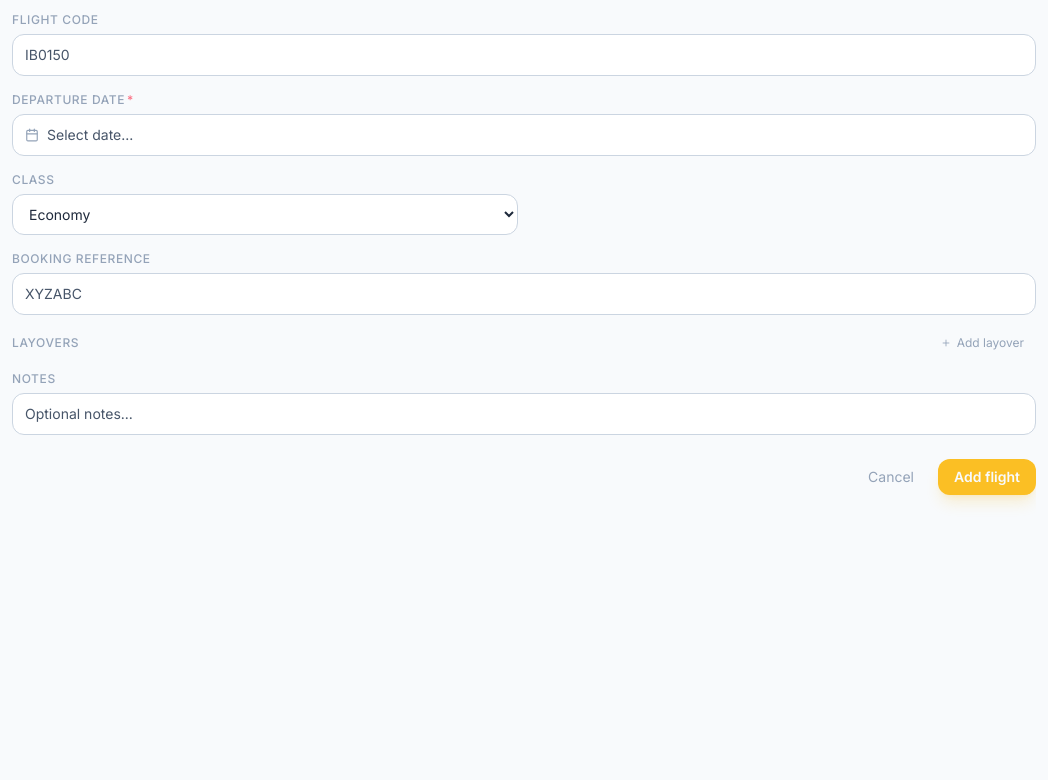
Scenario: FlightForm › layovers › removes a layover
Click the button "Add layover": click(982, 343) [929,331,1036,355]
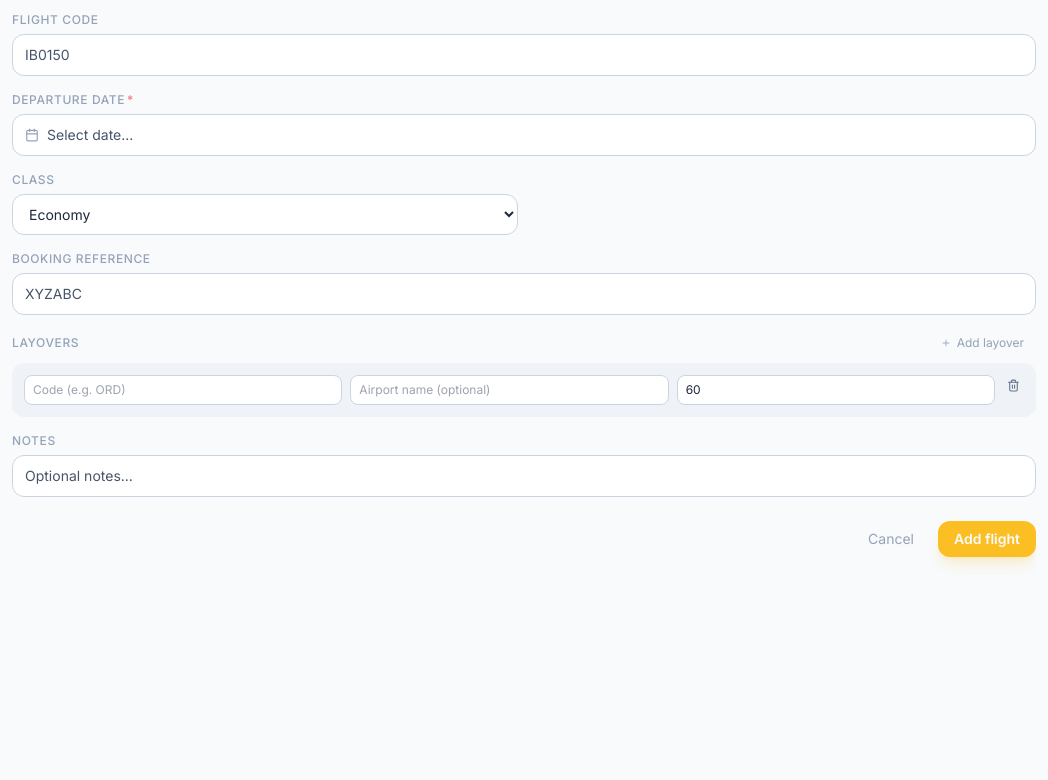
Click the button "Add layover": click(982, 343) [929,331,1036,355]
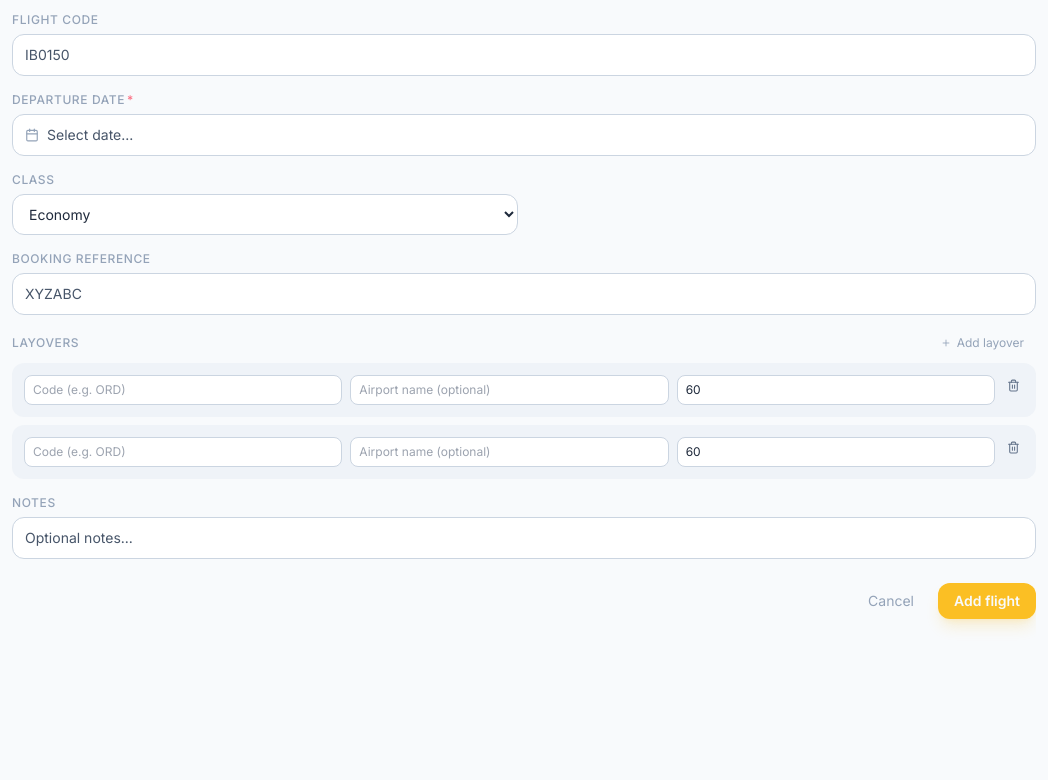
Click the 3rd button: click(1014, 386) [1003,375,1024,396]
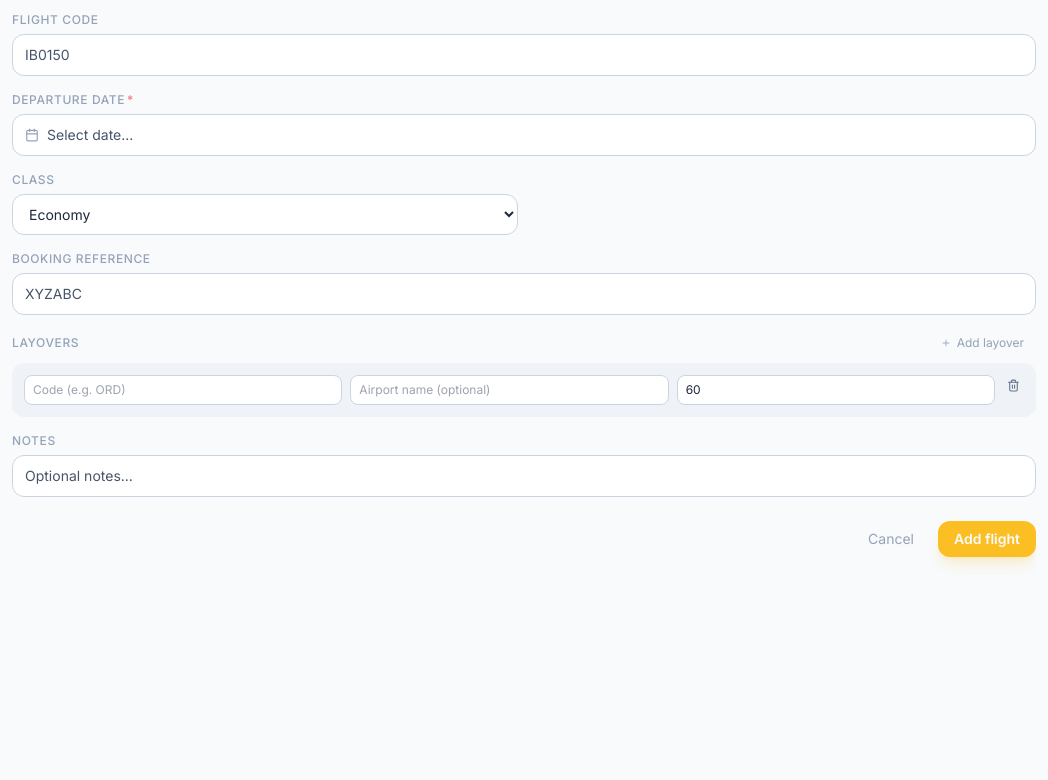
Expected: the number of number fields showing "60" is 1, [677,375,995,405]
